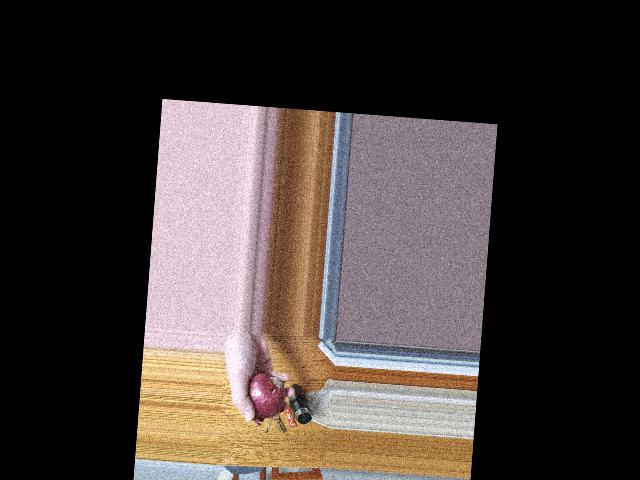onion: (241, 373, 281, 414)
